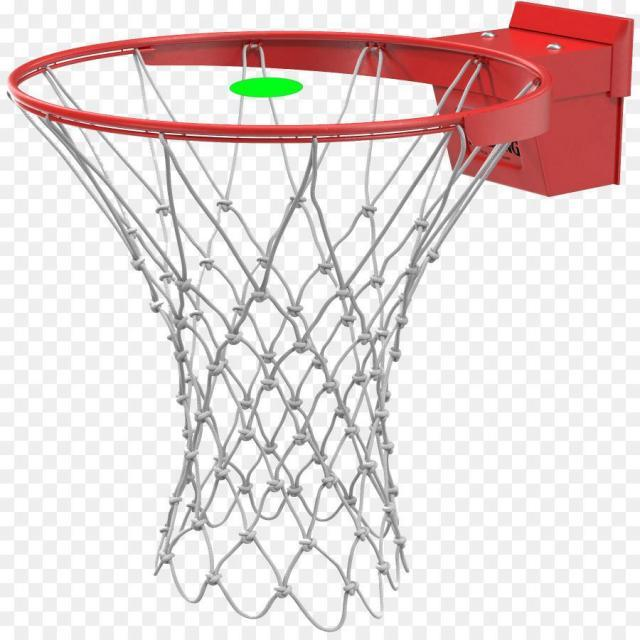hoop: (7, 30, 552, 630)
